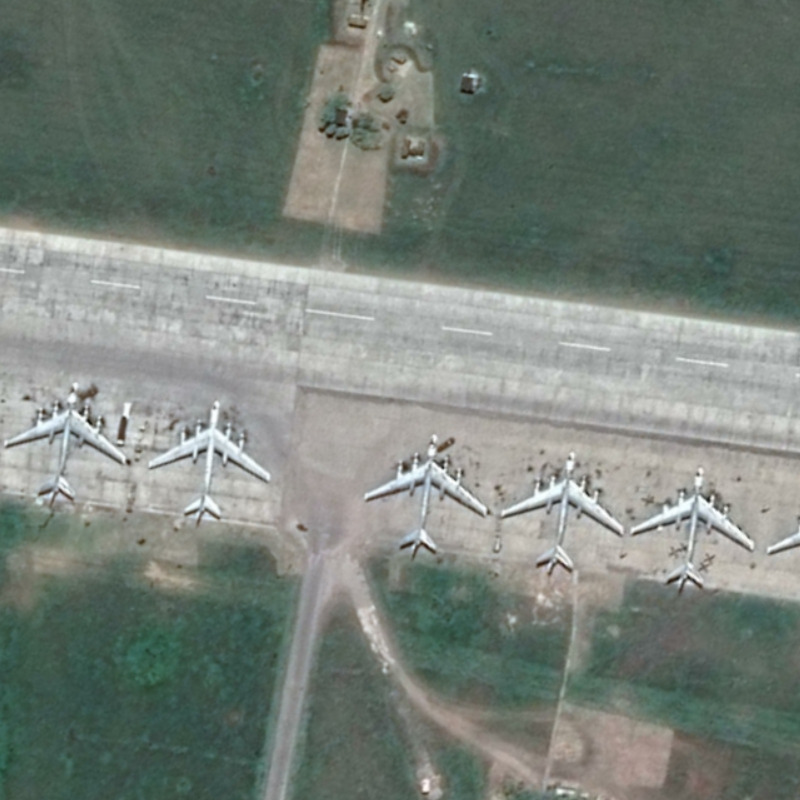A17: (358, 422, 490, 561), (2, 377, 136, 513), (493, 446, 625, 580), (143, 394, 275, 528), (627, 462, 761, 593)
